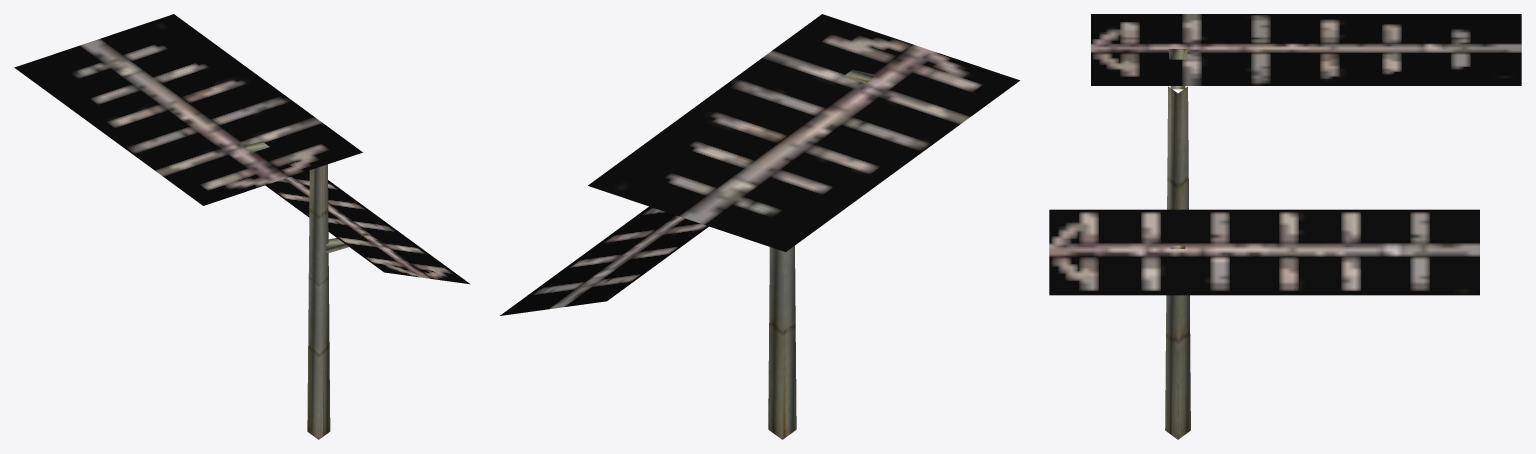
File: M2_Ariel4.glb
3 views of the same model, side by side, from view 1: azimuth 30°, elevation 25°; view 2: azimuth 150°, elevation 25°; view 3: azimuth 270°, elevation 25° (orthographic). The views are drawn at different scales.
Parts seen in each view (by area): view 1: M2_ARIEL4; view 2: M2_ARIEL4; view 3: M2_ARIEL4.
Part boxes in pixels (<box>): M2_ARIEL4: <box>14,14,470,439</box>; M2_ARIEL4: <box>500,14,1019,439</box>; M2_ARIEL4: <box>1049,14,1521,439</box>.
Size of the model in its own units: 1.22 by 1.44 by 1.75.
Materials: 2 (2 with a texture image).
